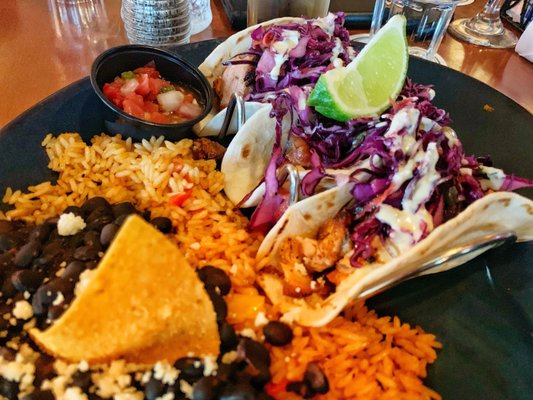burger: (301, 188, 533, 326)
sushi: (90, 44, 214, 141)
